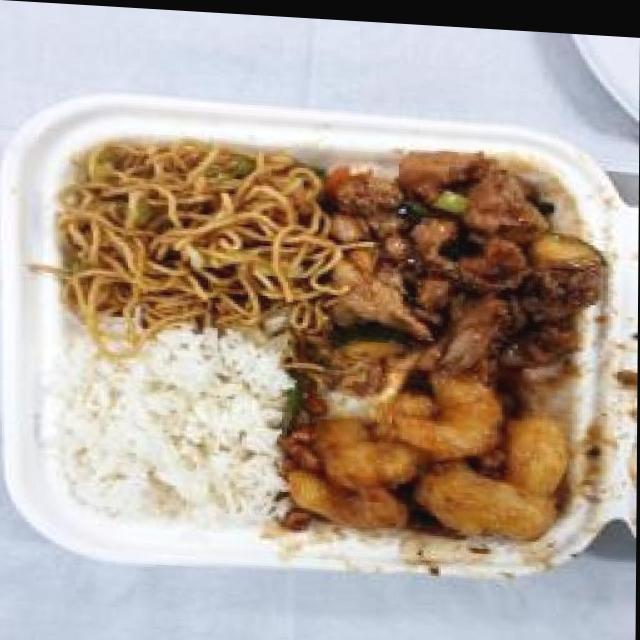Chow Mein: (58, 131, 332, 339)
Honey Walnut Shrimp: (284, 360, 593, 563)
Kung Pao Chicken: (330, 143, 599, 389)
White Steamed Rice: (55, 326, 291, 530)
